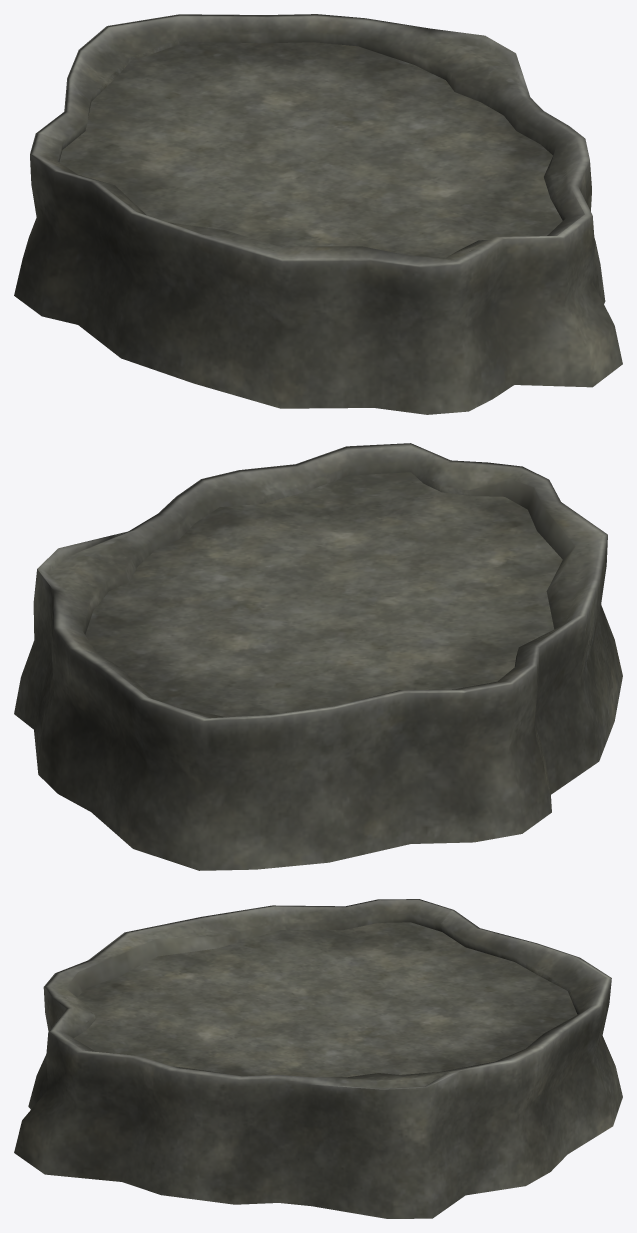
The model's file is MD_mizuba_middle_01.fbx.
3 renders of one model, top to bottom at view 1: azimuth 30°, elevation 25°; view 2: azimuth 150°, elevation 25°; view 3: azimuth 270°, elevation 25°, orthographic. The views are drawn at different scales.
Visible parts, largest first — view 1: mizuba_middle; view 2: mizuba_middle; view 3: mizuba_middle.
Boxes of the visible parts, left/top/right/bottom form: mizuba_middle: left=14, top=14, right=622, bottom=414; mizuba_middle: left=14, top=443, right=622, bottom=870; mizuba_middle: left=14, top=899, right=622, bottom=1218.
Bounding box in the file's own units: 5423 × 1546 × 6800.
